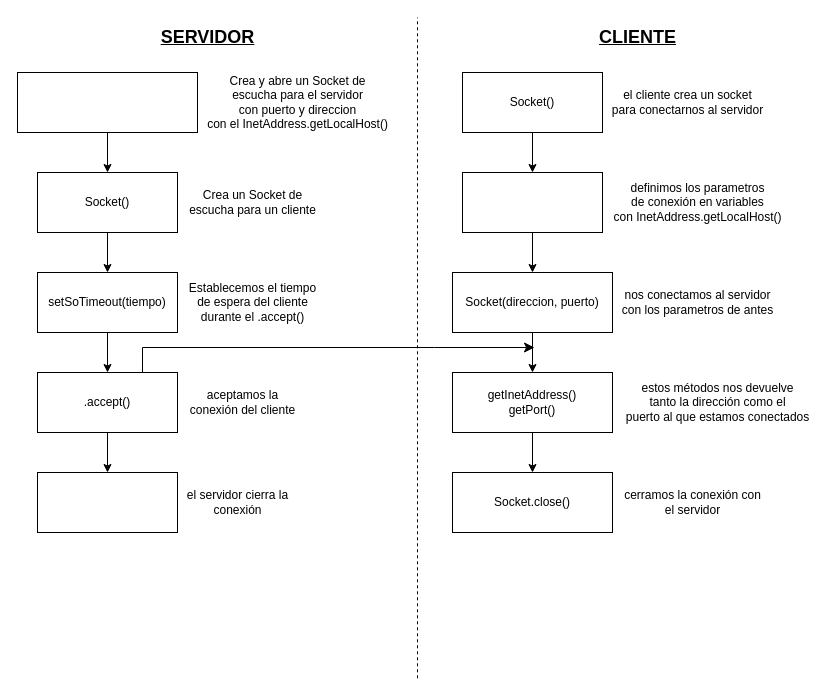
Some shapes in this 840 by 697 pixel diagram are drawn without their labels. Each missing label, with the centre of its shape:
".close()" goes at pixel 107 502.
"direccion puerto" goes at pixel 532 202.
"ServerSocket(direccion, puerto)" goes at pixel 107 102.
